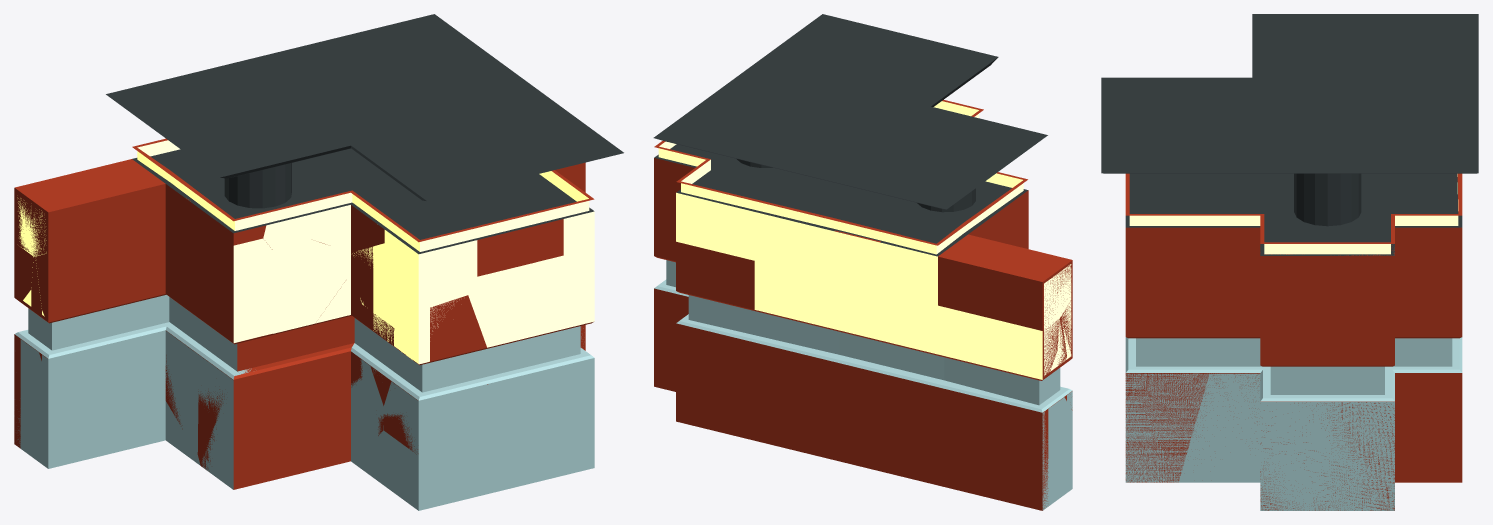
The model's file is OfficeVariant.fbx.
3 renders of one model, left to right at view 1: azimuth 30°, elevation 25°; view 2: azimuth 150°, elevation 25°; view 3: azimuth 270°, elevation 25°, orthographic. The views are drawn at different scales.
Visible parts, largest first — view 1: Office, Office_cell.018, Office_cell.038, Office_cell.052, Office_cell.012, Office_cell.054, Office_cell.080, Office_cell.093, Office_cell.023, Office_cell.067, Office_cell.074, Office_cell.027 (+38 smaller); view 2: Office, Office_cell.018, Office_cell.065, Office_cell.040, Office_cell.015, Office_cell.104, Office_cell.073, Office_cell.107, Office_cell.082, Office_cell.025, Office_cell.027, Office_cell.086 (+16 smaller); view 3: Office, Office_cell.018, Office_cell.052, Office_cell.069, Office_cell.055, Office_cell.009, Office_cell.020, Office_cell.065, Office_cell.015, Office_cell.030, Office_cell.104, Office_cell.014 (+20 smaller).
Part boxes in pixels (x1,y1,x2,y2): Office: (14,31,623,508); Office_cell.018: (132,148,594,254); Office_cell.038: (197,326,295,489); Office_cell.052: (509,290,594,476); Office_cell.012: (468,255,585,397); Office_cell.054: (356,432,558,510); Office_cell.080: (288,325,383,474); Office_cell.093: (31,244,112,379); Office_cell.023: (101,307,207,429); Office_cell.067: (383,376,515,455); Office_cell.074: (272,238,350,348); Office_cell.027: (111,140,593,251); Office: (654,14,1072,510); Office_cell.018: (654,144,1027,255); Office_cell.065: (741,147,903,194); Office_cell.040: (887,414,1032,508); Office_cell.015: (838,26,942,71); Office_cell.104: (743,99,835,150); Office_cell.073: (766,77,868,125); Office_cell.107: (780,120,890,152); Office_cell.082: (766,67,872,98); Office_cell.025: (977,379,1062,504); Office_cell.027: (672,100,1027,259); Office_cell.086: (887,182,968,209); Office: (1101,14,1477,510); Office_cell.018: (1125,173,1462,255); Office_cell.052: (1125,281,1219,482); Office_cell.069: (1197,215,1260,297); Office_cell.055: (1125,215,1196,282); Office_cell.009: (1385,351,1428,482); Office_cell.020: (1215,296,1327,379); Office_cell.065: (1429,46,1478,126); Office_cell.015: (1101,108,1204,145); Office_cell.030: (1395,280,1462,350); Office_cell.104: (1328,106,1448,149); Office_cell.014: (1327,292,1384,394).
Bounding box in the file's own units: 800 × 521 × 561.
